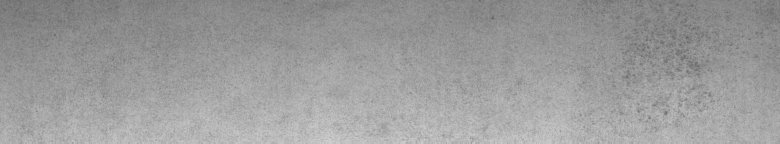ib: (621, 28, 763, 128)
